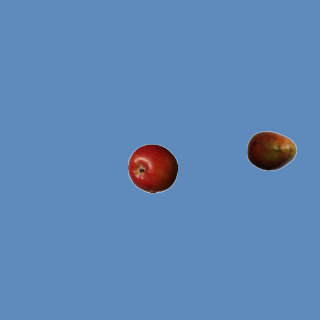Apple Braeburn: (127, 143, 177, 193)
Mango Red: (246, 125, 296, 175)
